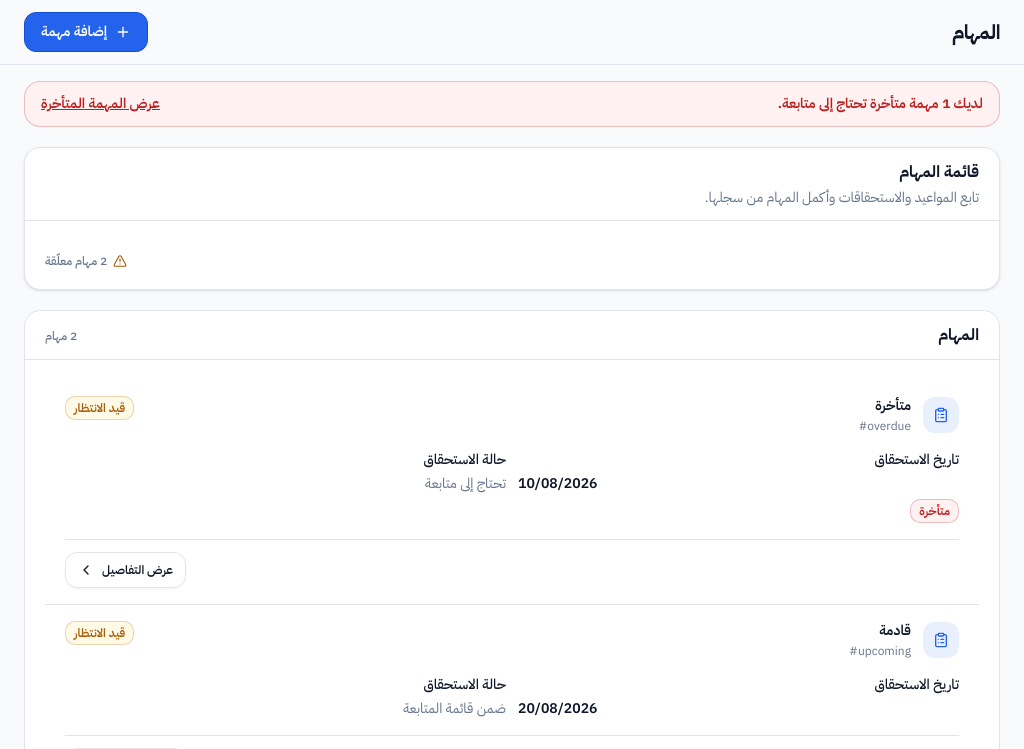
Test case: TasksPage › shows only overdue tasks from the overdue alert
The width and height of the screenshot is (1024, 749).
Click the button "لديك 1 مهمة متأخرة تحتاج إلى متابعة. عرض المهمة المتأخرة". click: (967, 104)
box: [24,81,1000,127]
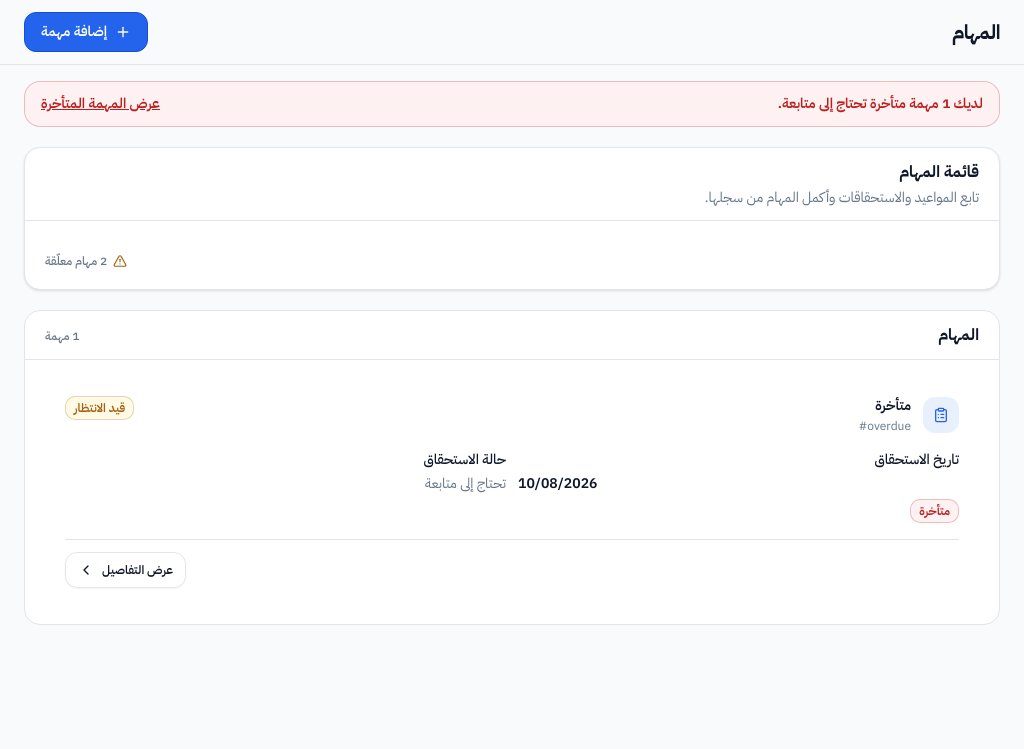
Now the text "قادمة" is gone
